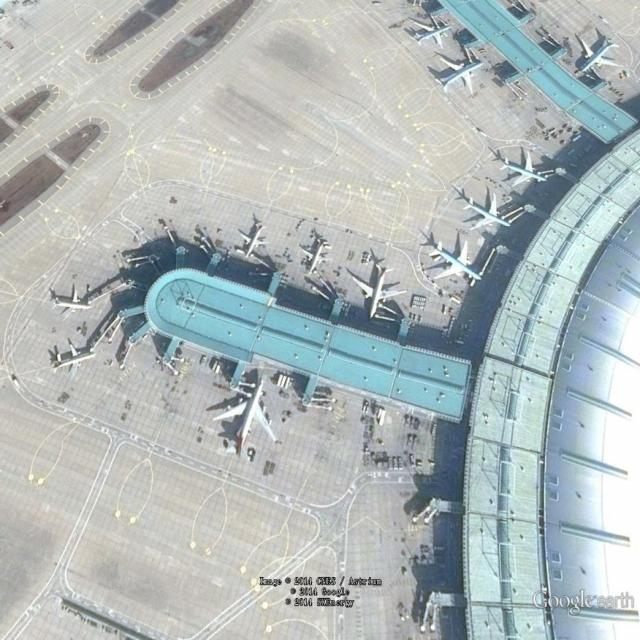aircraft: (210, 378, 282, 463), (349, 261, 409, 322), (424, 236, 491, 286), (497, 145, 555, 192), (428, 55, 487, 100), (574, 31, 628, 77), (462, 192, 517, 236), (51, 343, 100, 383), (50, 282, 94, 324), (297, 235, 335, 278), (404, 17, 453, 49), (238, 219, 271, 264)
